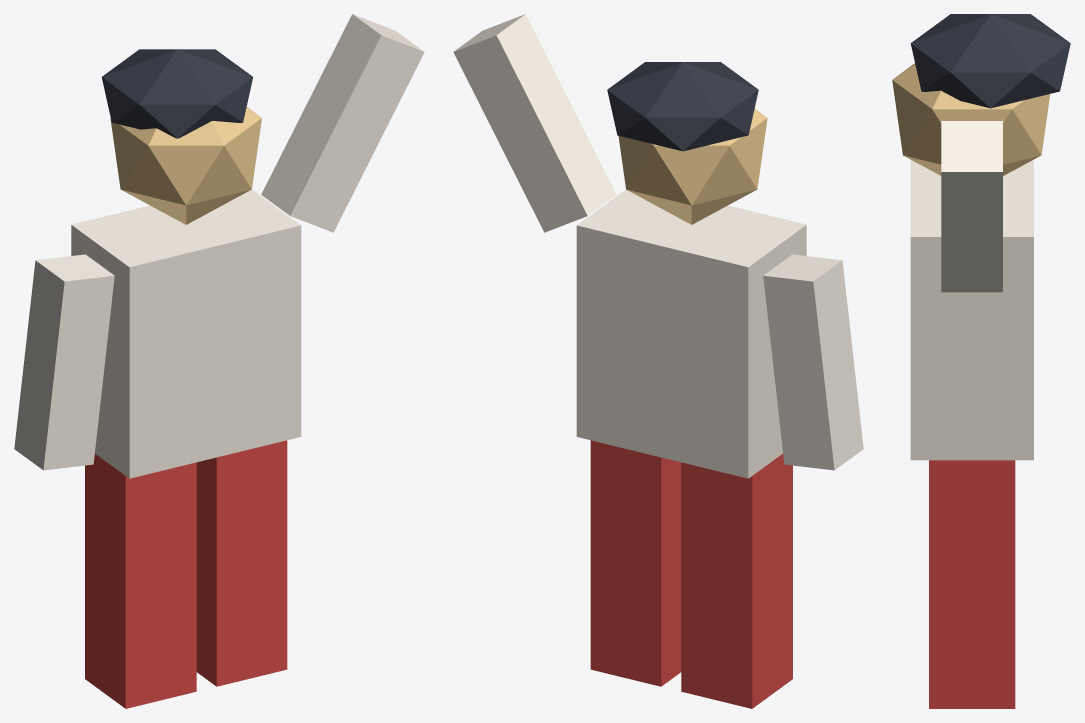
Rendered from people_student.glb.
3 renders of one model, left to right at view 1: azimuth 30°, elevation 25°; view 2: azimuth 150°, elevation 25°; view 3: azimuth 270°, elevation 25°, orthographic. The views are drawn at different scales.
Visible parts, largest first — view 1: people_student; view 2: people_student; view 3: people_student.
Boxes of the visible parts, box(x1,y1,x2,y2) form: people_student: box(14, 14, 424, 708); people_student: box(453, 14, 863, 708); people_student: box(892, 14, 1070, 708).
Bounding box in the file's own units: 0.0755 × 0.117 × 0.029.
